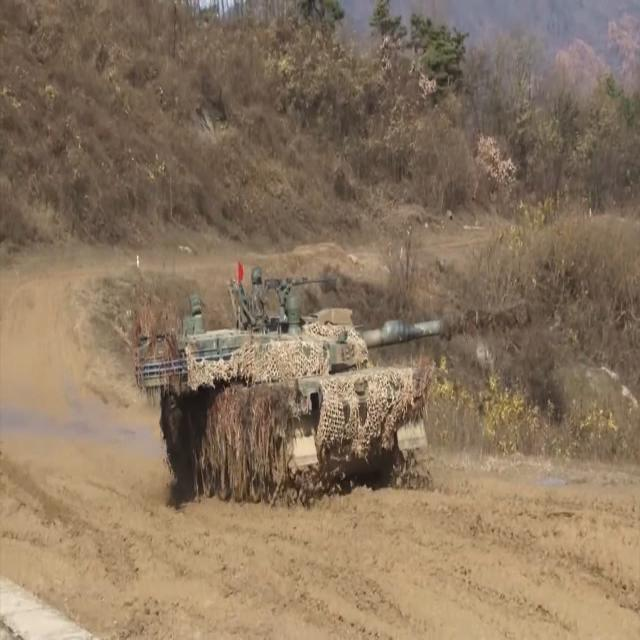korea tank: (132, 265, 532, 501)
